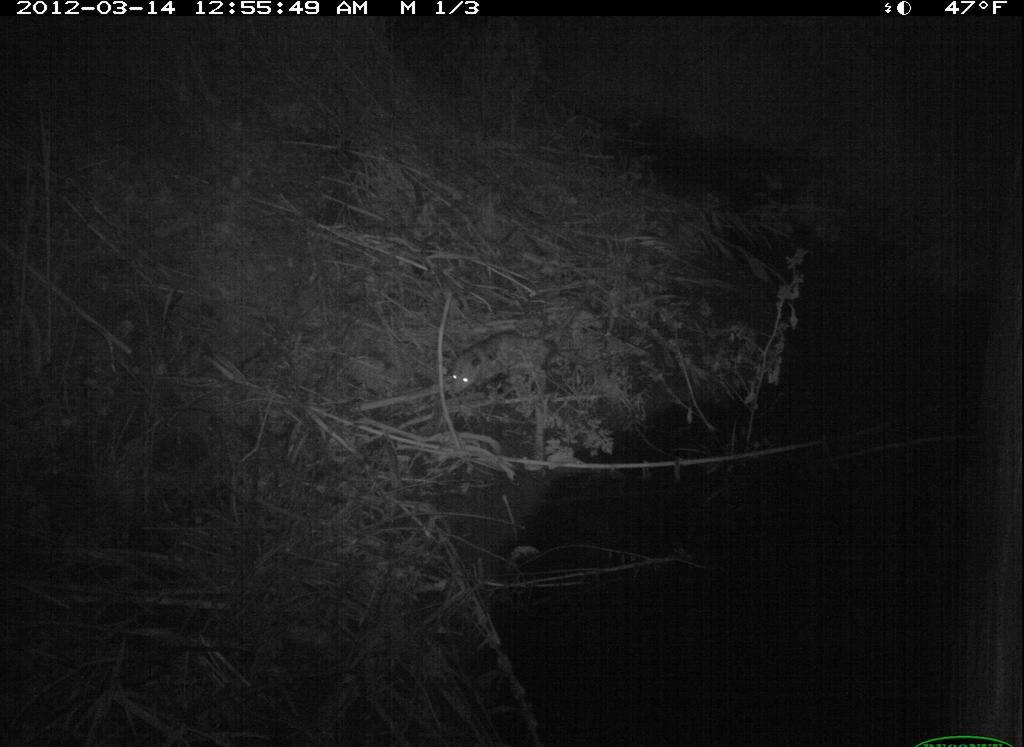opossum: (411, 287, 574, 452)
